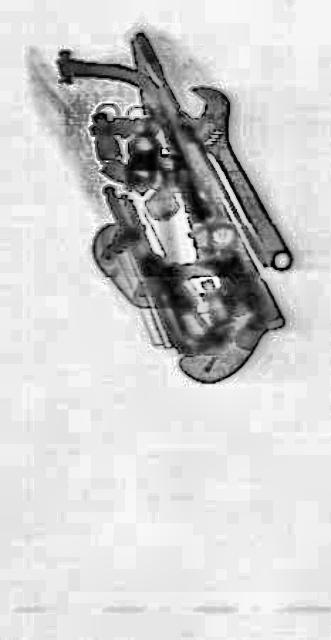Wrench: (173, 58, 304, 300)
